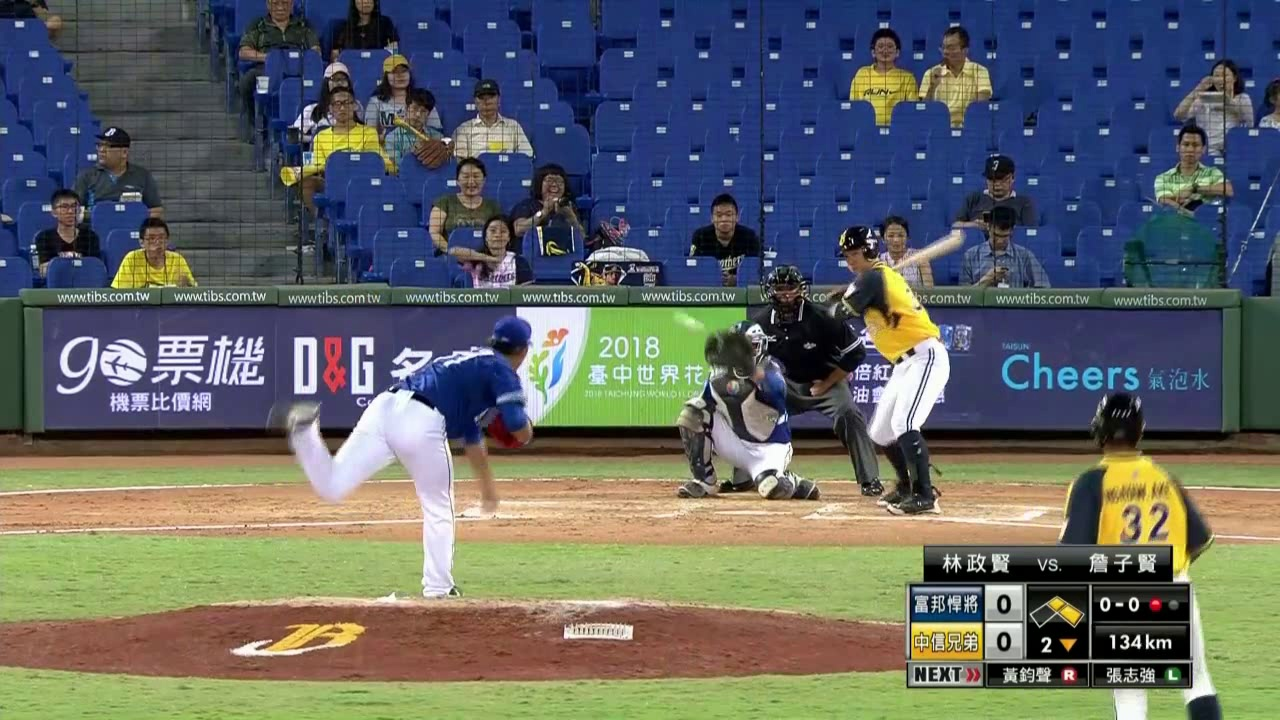ball: (680, 313, 696, 328)
base: (1029, 592, 1085, 627)
bat: (846, 229, 968, 286)
out: (1145, 586, 1181, 617)
score1: (987, 588, 1021, 618)
score2: (987, 626, 1021, 656)
session: (1027, 628, 1087, 657)
speed: (1093, 627, 1186, 661)
strikeball: (1093, 588, 1143, 620)
